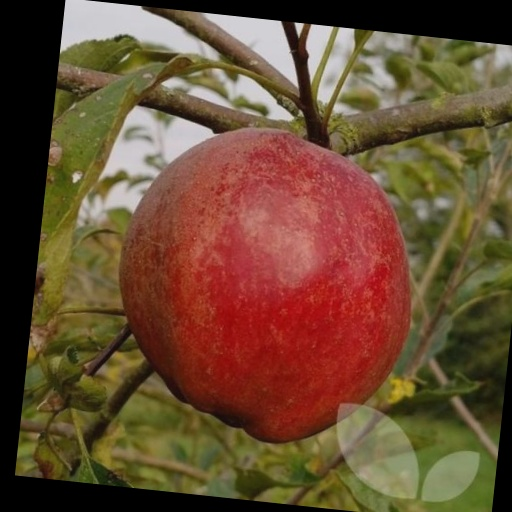fruit: (119, 128, 409, 442)
